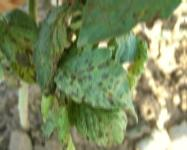Tomato leaf bacterial spot: (41, 50, 141, 121), (33, 2, 85, 96), (2, 8, 48, 82)
